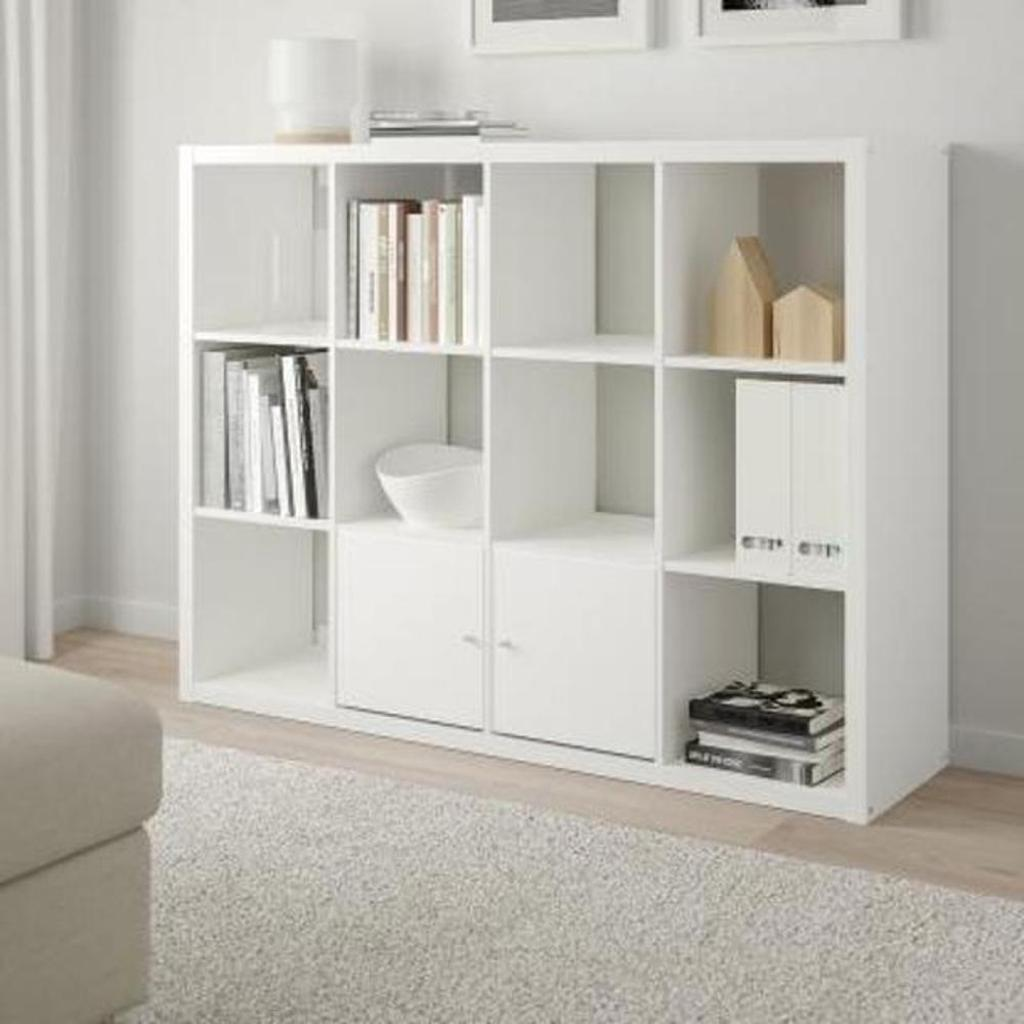lamp: (161, 137, 956, 838)
